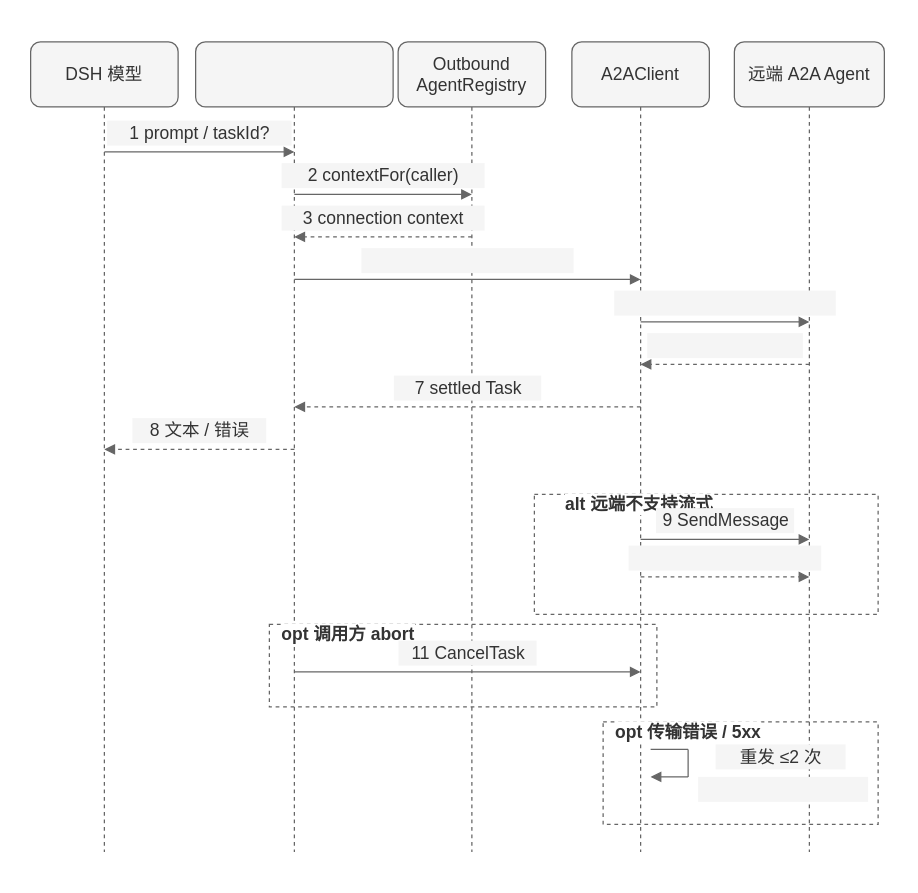
This 918x893 diagram has some shape labels left out. Here are the shapes that lost their labels. From the top down, the centre of each, then its label:
(x=293, y=74): 模型工具 a2a__<连接>__<技能>
(x=467, y=260): 4 sendMessage(stream)
(x=724, y=302): 5 SendStreamingMessage
(x=724, y=345): 6 task / SSE 帧
(x=724, y=557): 10 GetTask 每 250ms
(x=783, y=788): 带 Last-Event-ID
